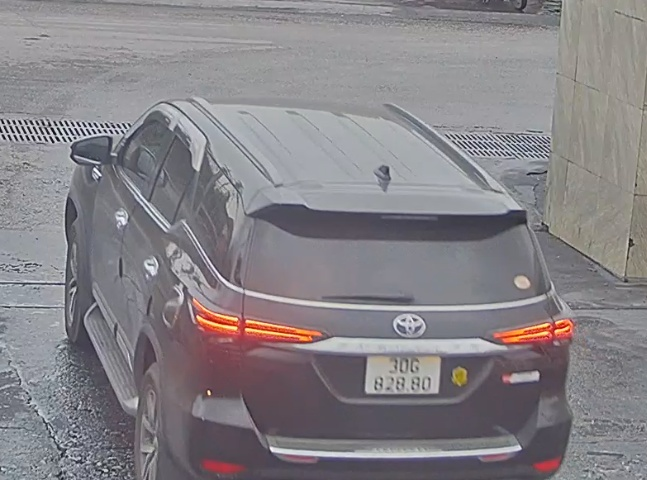vehicle plate: (358, 345, 444, 402)
